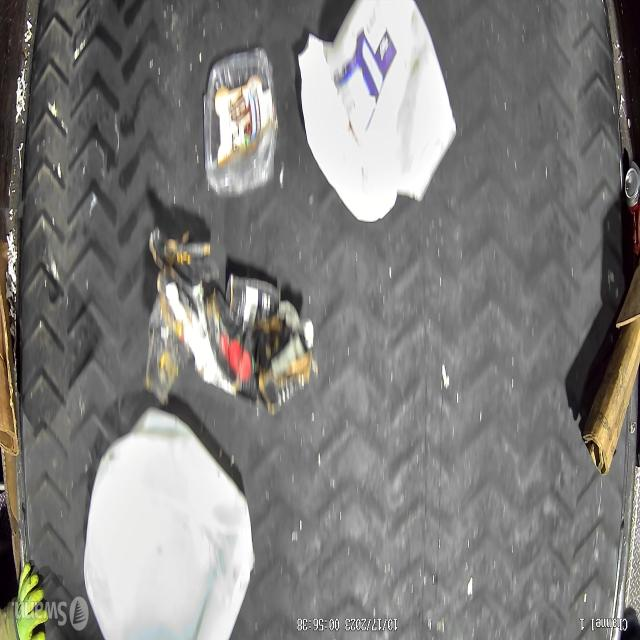can: (624, 160, 640, 256)
milk_jug: (82, 405, 254, 638), (328, 0, 456, 204), (297, 33, 397, 226)
